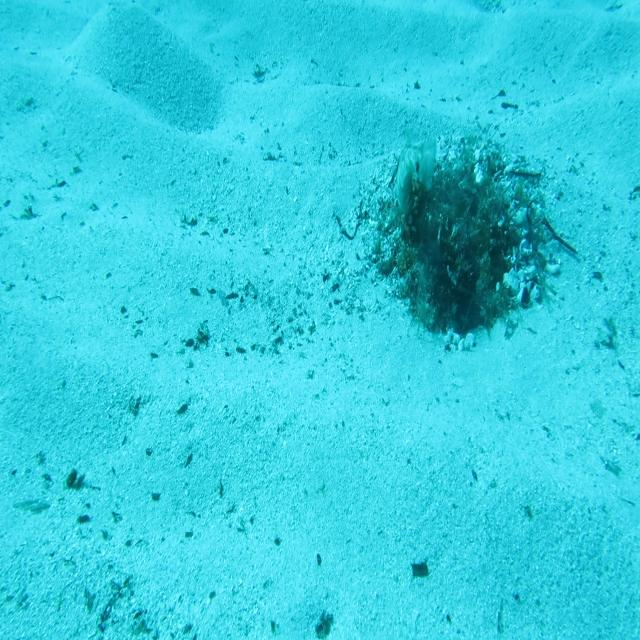NIP_IN: (393, 130, 437, 226)
core_nest: (434, 191, 489, 230)
nest: (356, 120, 571, 362)
